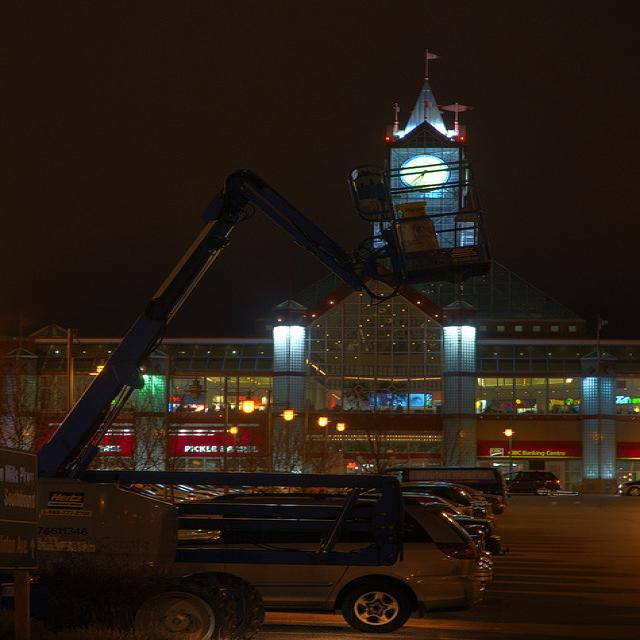Vehicle: (180, 489, 498, 632), (400, 491, 502, 554), (400, 482, 505, 515), (503, 471, 562, 496), (618, 479, 640, 497)
